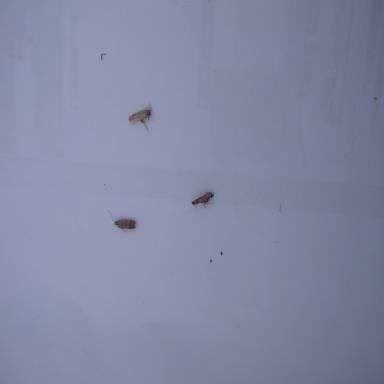pbw: (128, 101, 155, 131), (106, 210, 136, 232), (190, 192, 215, 208)
